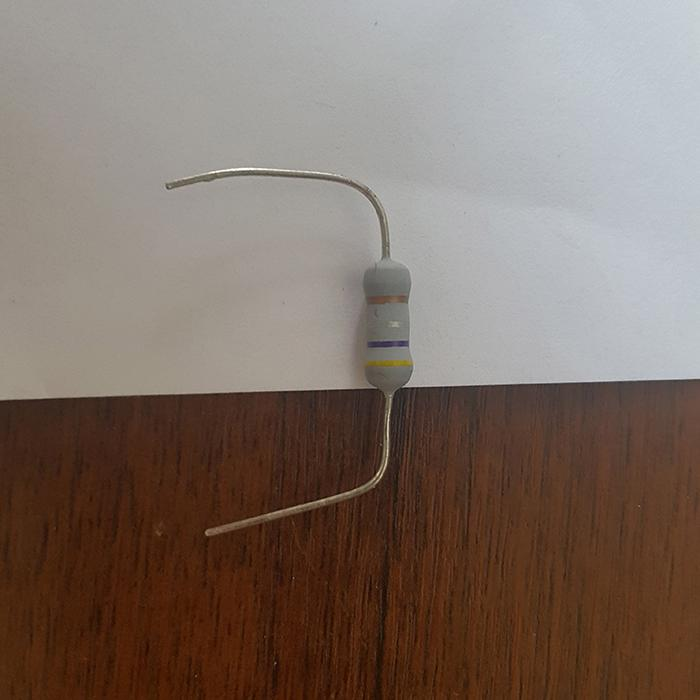resistor: (362, 255, 413, 394)
